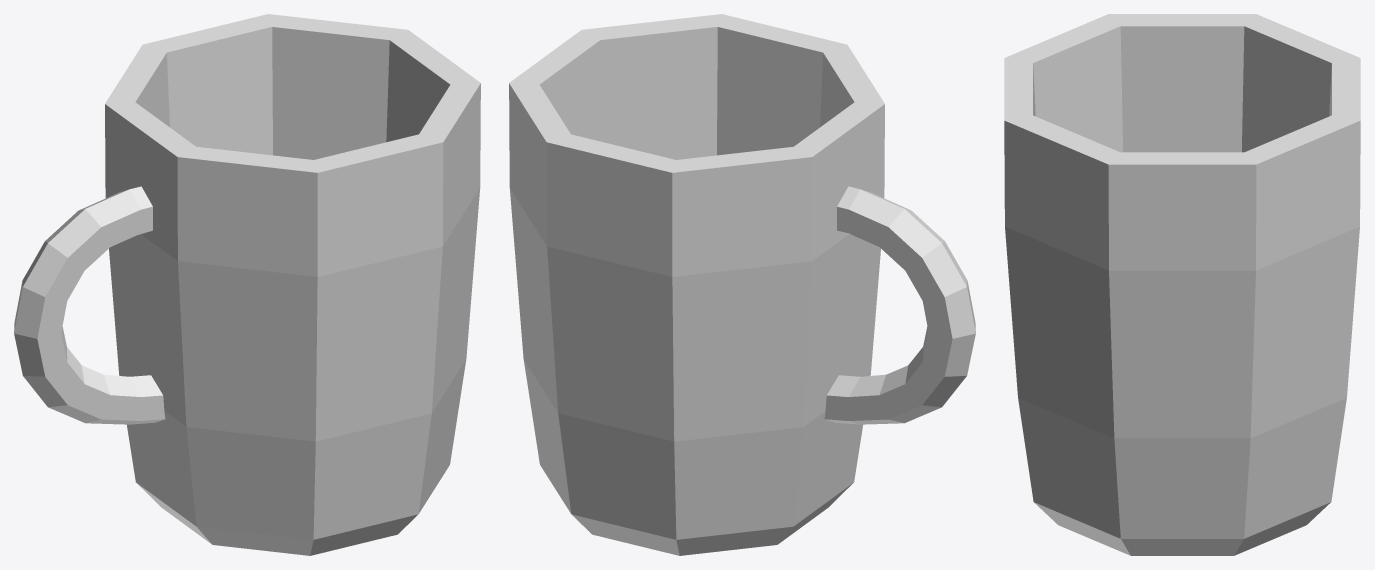
File: Cup_02.fbx
The picture shows the model from 3 angles, left to right: view 1: azimuth 30°, elevation 25°; view 2: azimuth 150°, elevation 25°; view 3: azimuth 270°, elevation 25°; orthographic projection.
Parts seen in each view (by area): view 1: Cup_02; view 2: Cup_02; view 3: Cup_02.
Boxes of the visible parts, bbox=[...] form: Cup_02: bbox=[14, 14, 480, 555]; Cup_02: bbox=[509, 14, 975, 555]; Cup_02: bbox=[1004, 14, 1360, 555].
Size of the model in its own units: 13.18 by 11.91 by 9.29.
